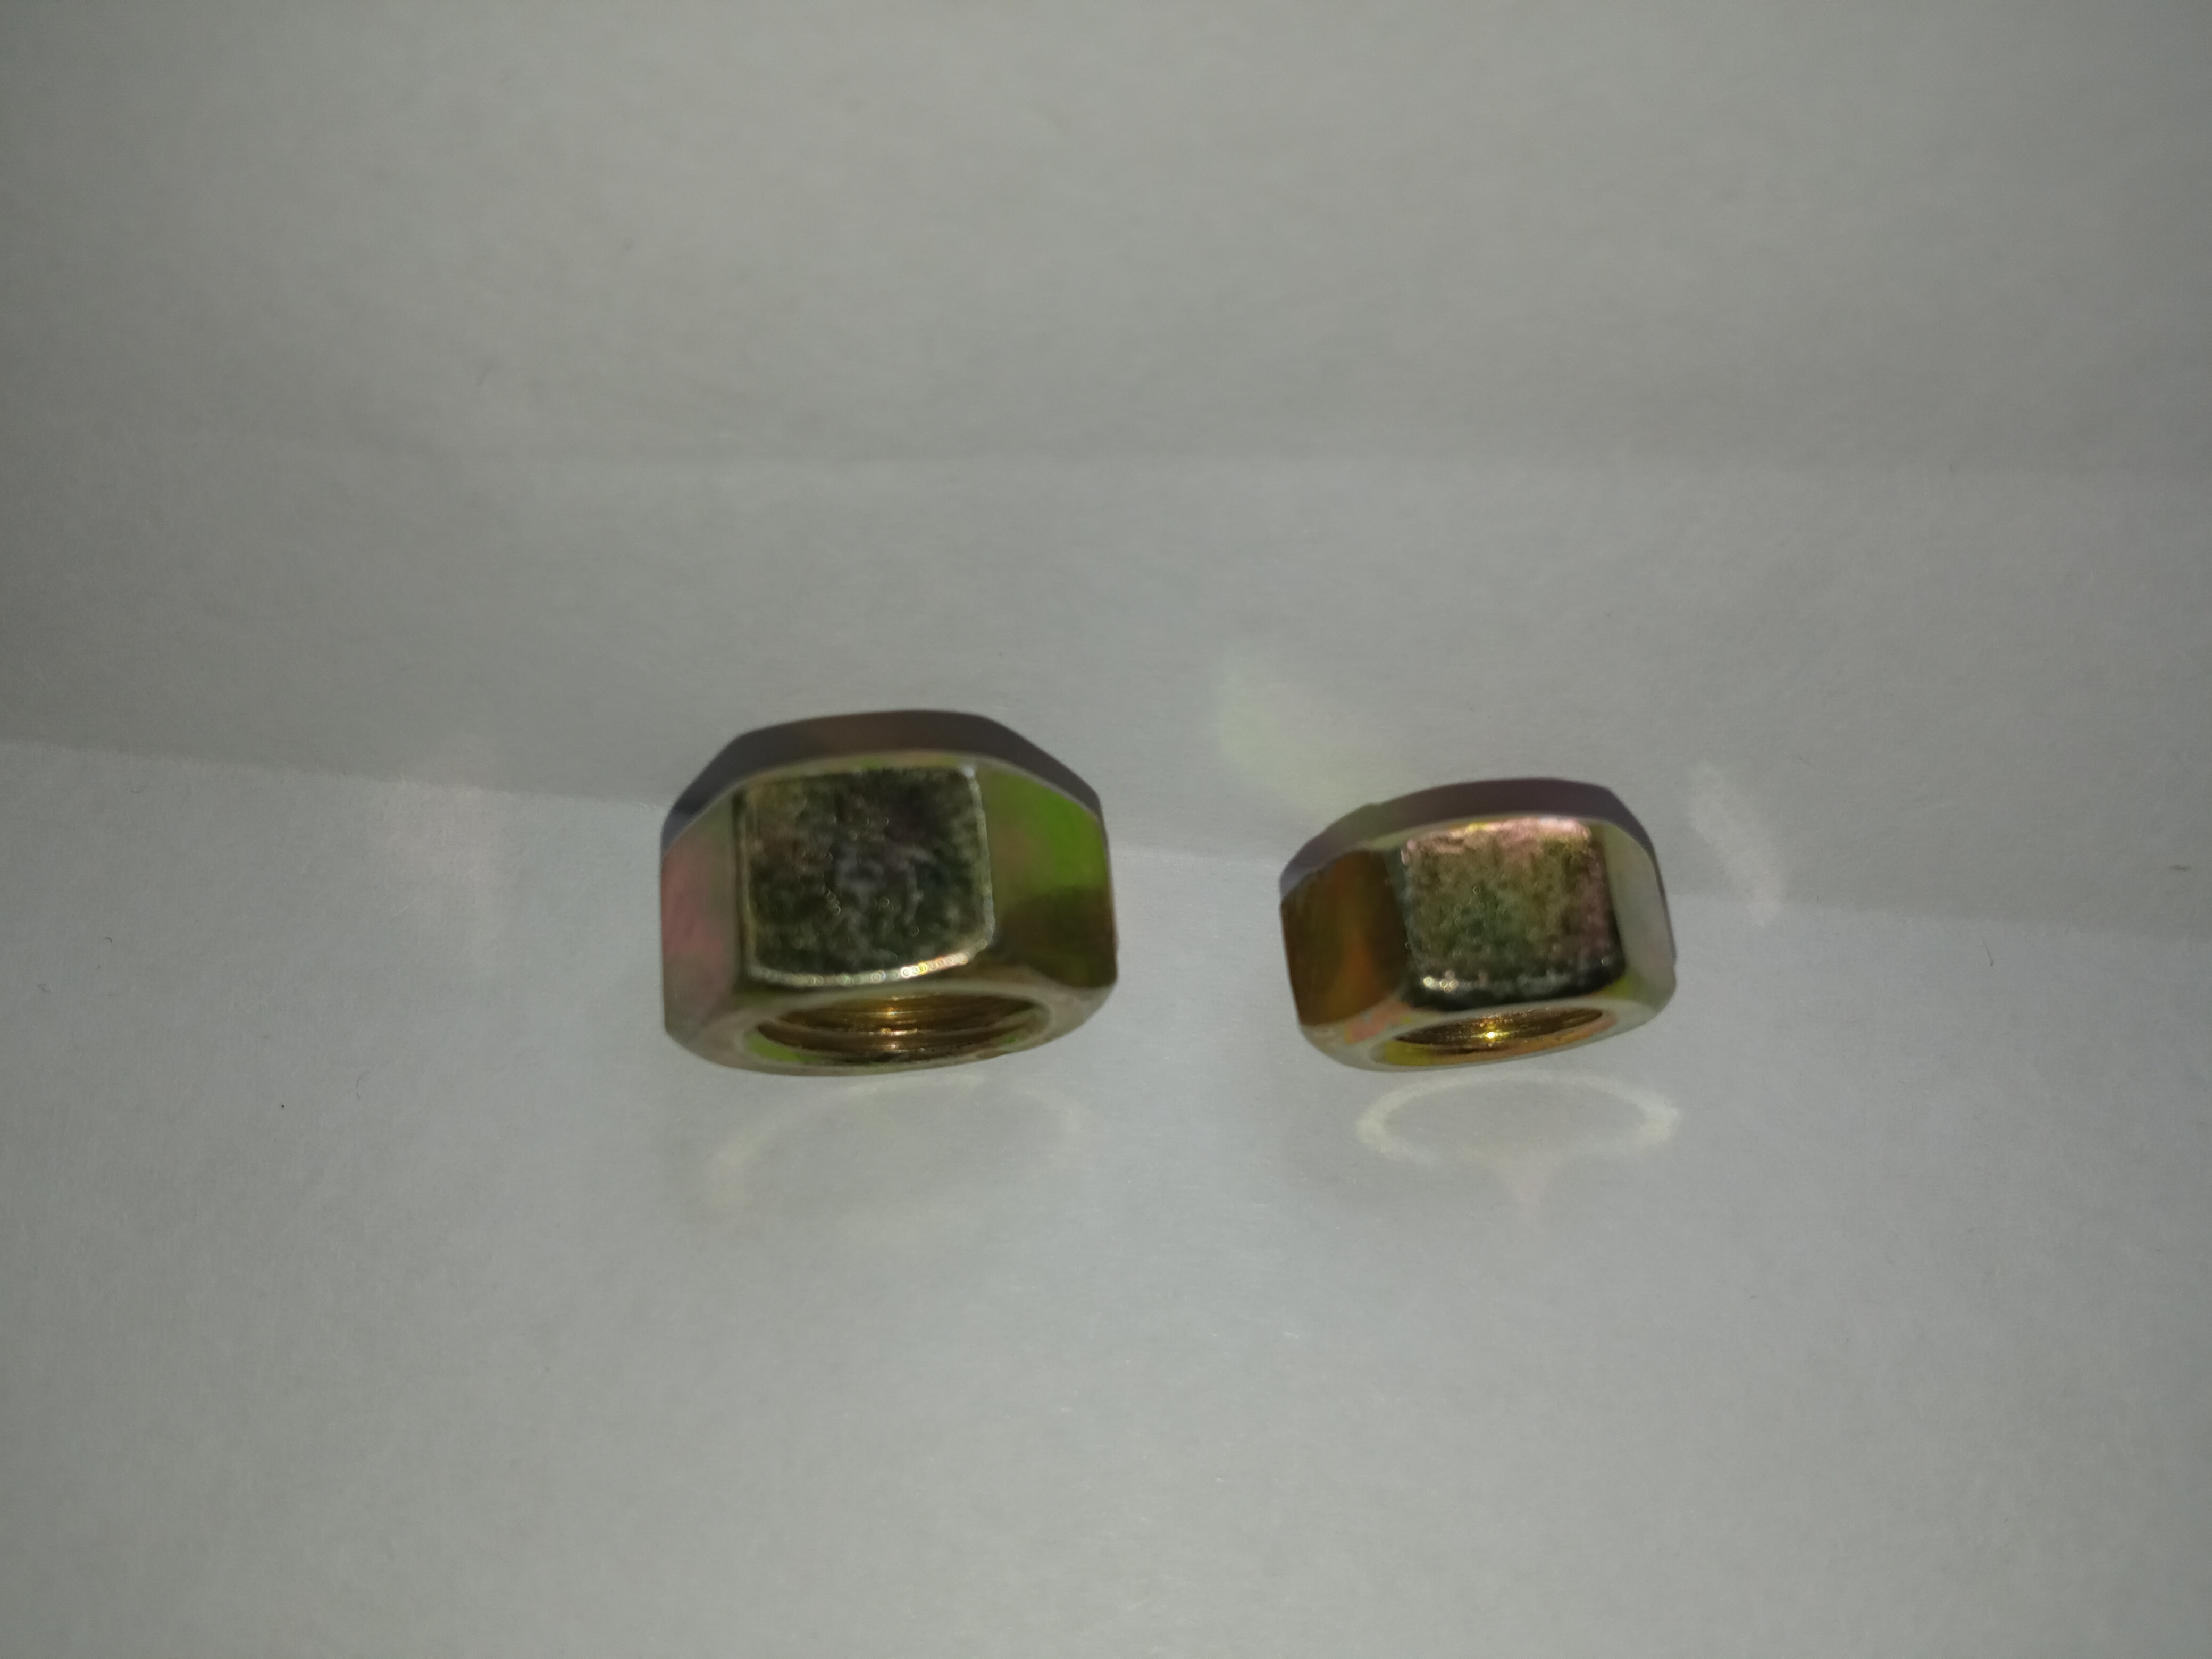m10: (655, 755, 1116, 1079)
m8: (1291, 816, 1689, 1070)
